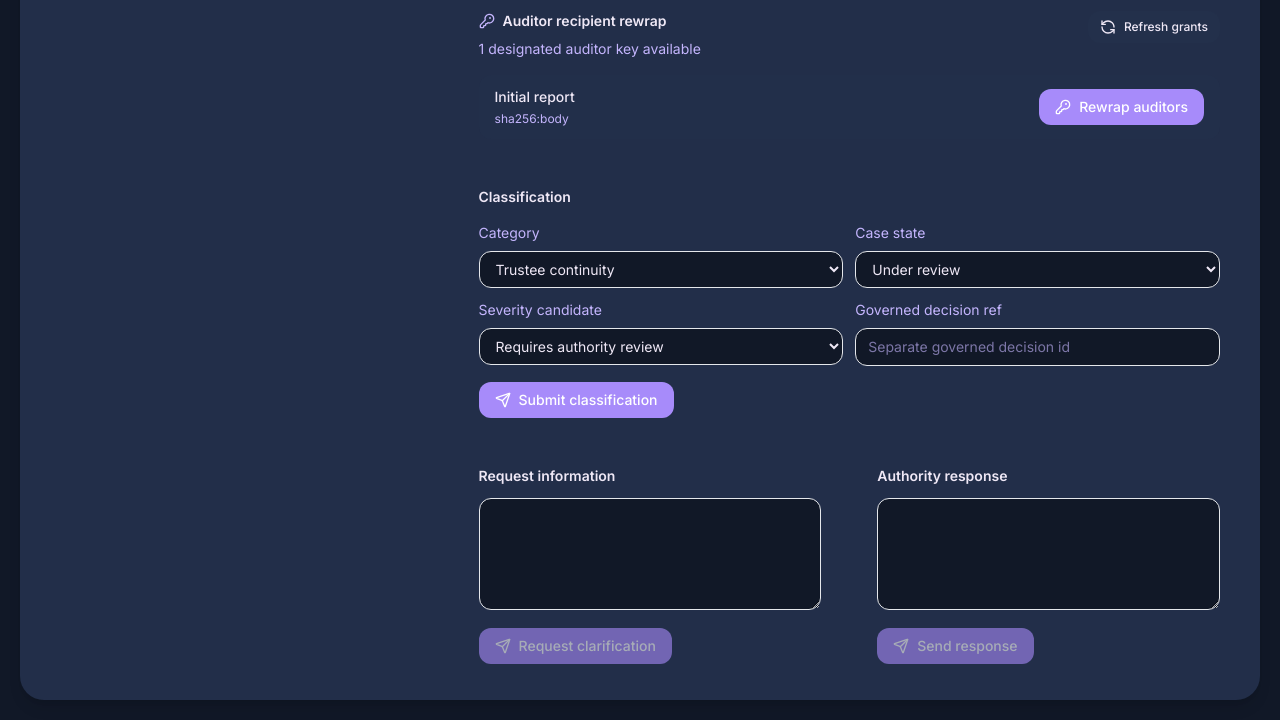
Test: OwnerAnomalyWorkspacePanel › submits clarification requests and authority responses through signed owner transactions
This screenshot has width=1280, height=720.
(page scrolled)
Type "Please provide a bounded clarification." into the text box named "Clarification request body" at (650, 554), box [478,498,821,610]
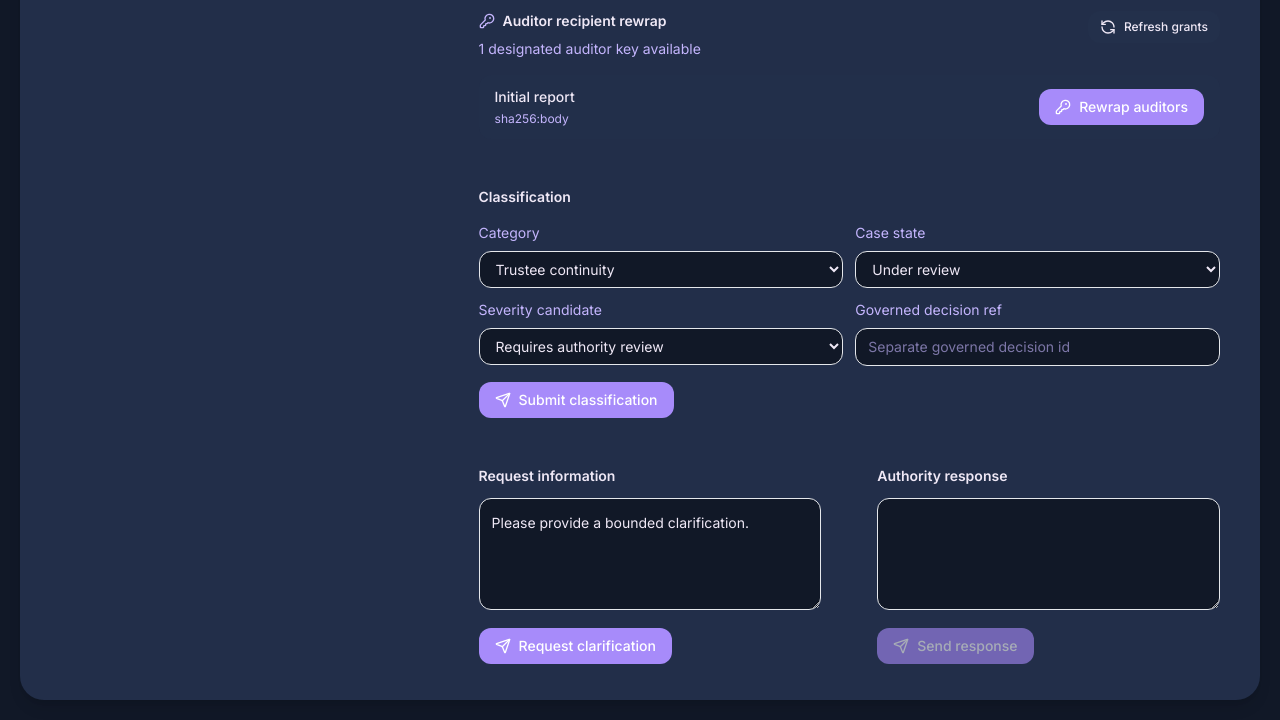
Click the button "Request clarification" at (575, 646), box [478,628,672,664]
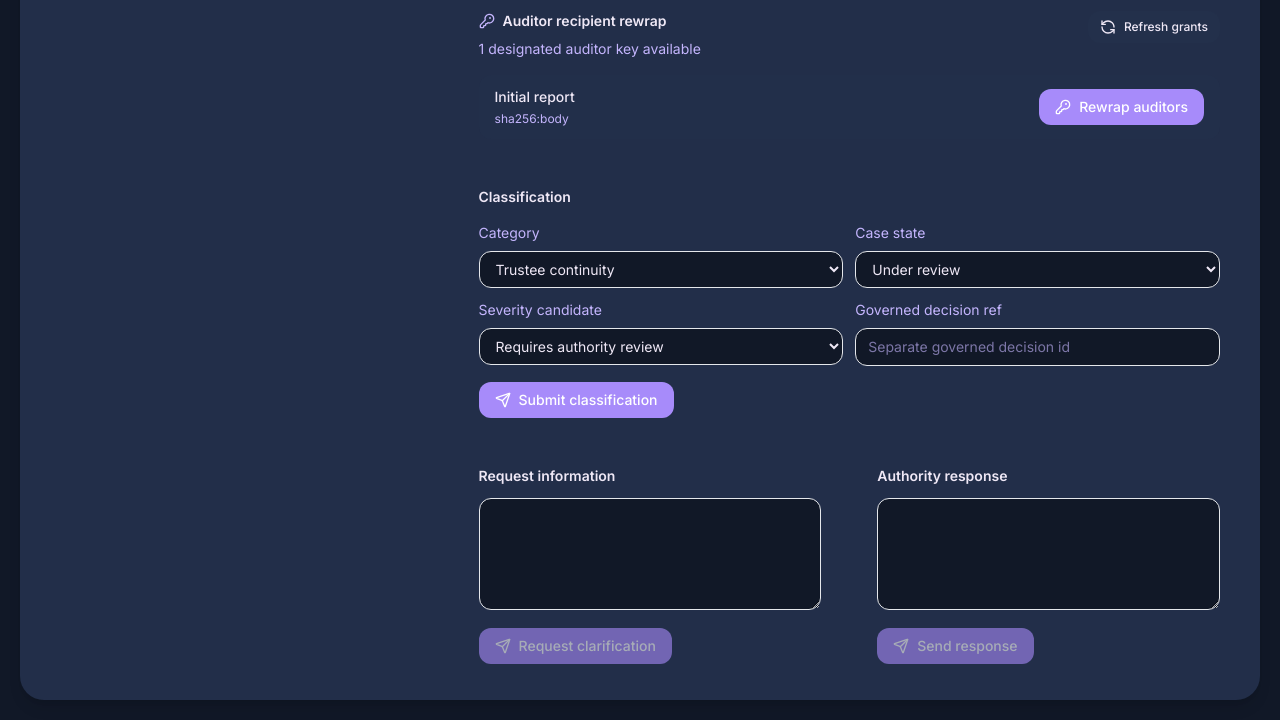
Type "Authority response remains anomaly evidence." into the text box named "Authority response body" at (1049, 554), box [877,498,1220,610]
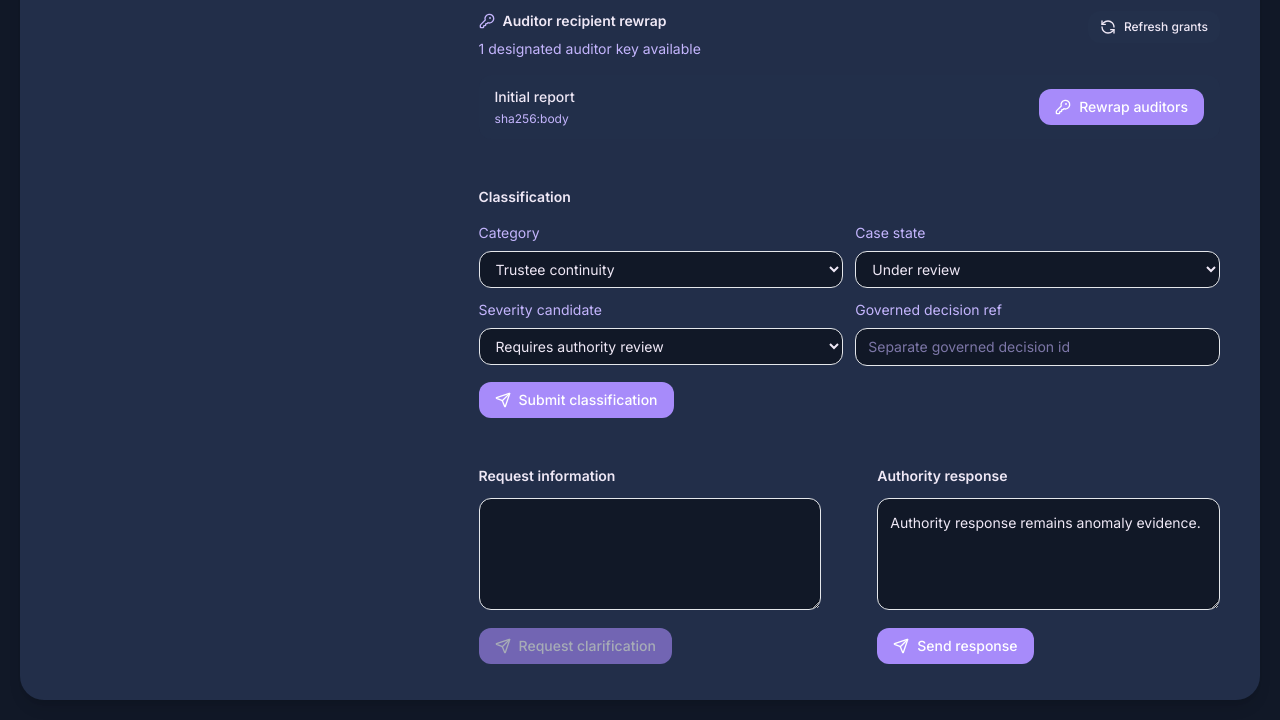
Click the button "Send response" at (955, 646), box [877,628,1034,664]
(page scrolled)
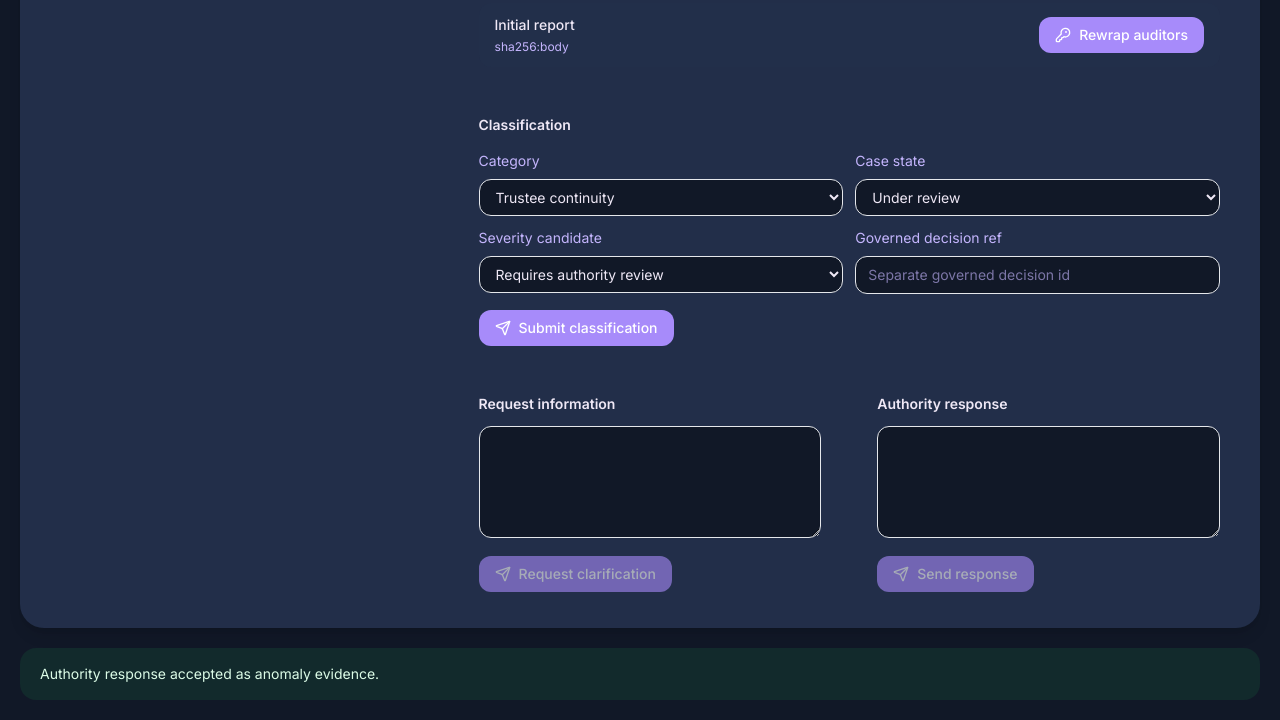
Result: the text "Authority response accepted as anomaly evidence." is shown at [20,648,1260,700]
